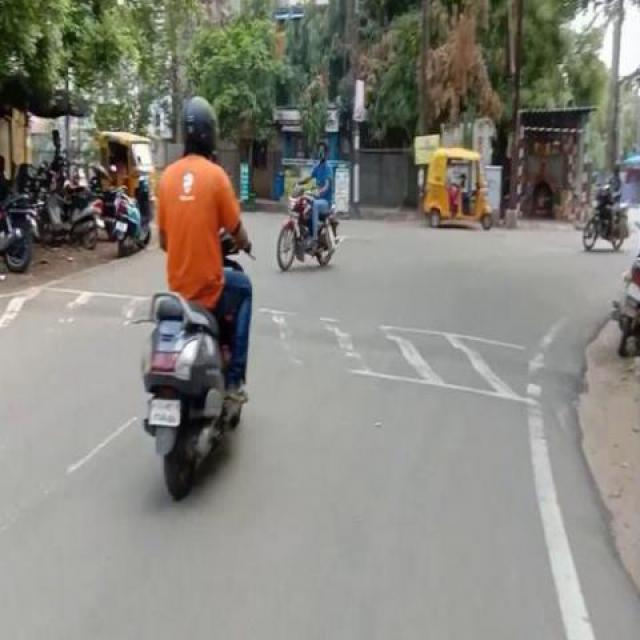Speed Bump: (250, 314, 581, 392), (2, 292, 149, 322)
